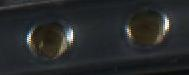joints: (122, 3, 171, 51), (23, 15, 73, 62)
